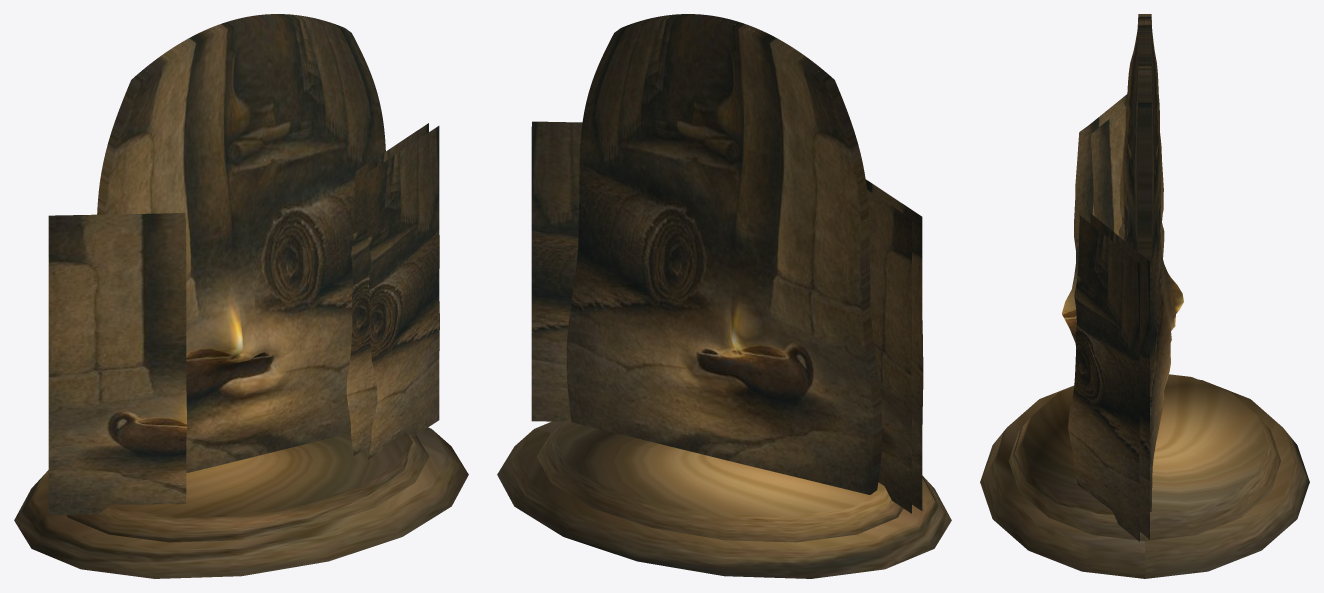
File: samuel-clay-lamp.glb
3 renders of one model, left to right at view 1: azimuth 30°, elevation 25°; view 2: azimuth 150°, elevation 25°; view 3: azimuth 270°, elevation 25°, orthographic. The views are drawn at different scales.
Visible parts, largest first — view 1: PaintingSculptureMonument; view 2: PaintingSculptureMonument; view 3: PaintingSculptureMonument.
Boxes of the visible parts, box(x1,y1,x2,y2) form: PaintingSculptureMonument: box(14, 14, 468, 578); PaintingSculptureMonument: box(497, 14, 951, 578); PaintingSculptureMonument: box(980, 14, 1309, 578).
Bounding box in the file's own units: 2.76 × 2.99 × 1.99.
Materials: 1 (1 with a texture image).
